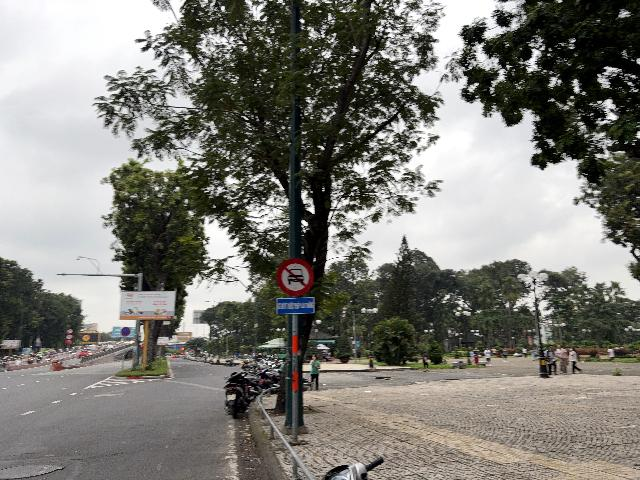cam-o-to: (277, 258, 314, 296)
